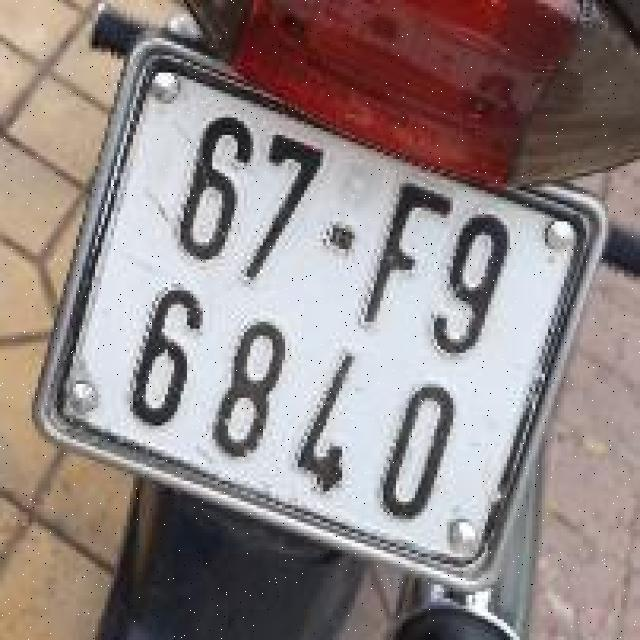0: (372, 377, 464, 550)
4: (288, 311, 364, 488)
6: (173, 99, 252, 268), (132, 263, 201, 436)
7: (244, 121, 329, 291)
8: (197, 282, 285, 472)
9: (428, 194, 520, 384)
F: (361, 176, 453, 350)
